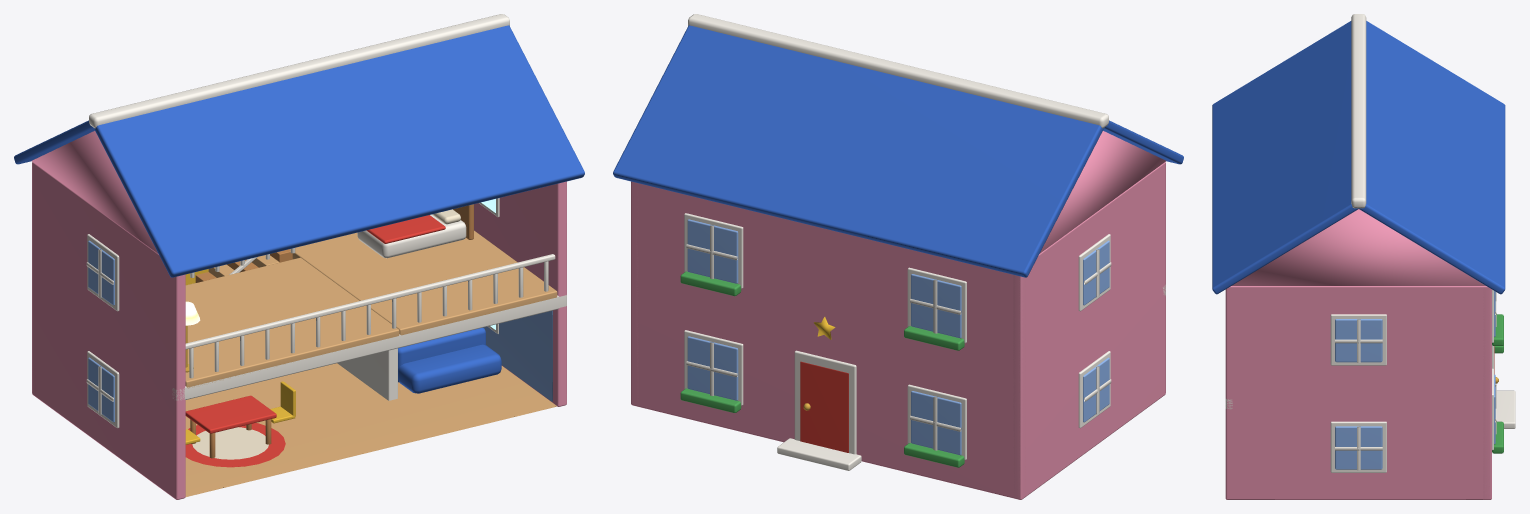
File: toy_dollhouse.glb
3 renders of one model, left to right at view 1: azimuth 30°, elevation 25°; view 2: azimuth 150°, elevation 25°; view 3: azimuth 270°, elevation 25°, orthographic. The views are drawn at different scales.
Visible parts, largest first — view 1: toy_dollhouse; view 2: toy_dollhouse; view 3: toy_dollhouse.
Boxes of the visible parts, box(x1,y1,x2,y2) form: toy_dollhouse: box(14, 14, 584, 499); toy_dollhouse: box(613, 14, 1183, 499); toy_dollhouse: box(1212, 14, 1515, 499).
Size of the model in its own units: 14.9 by 11.48 by 10.25.
